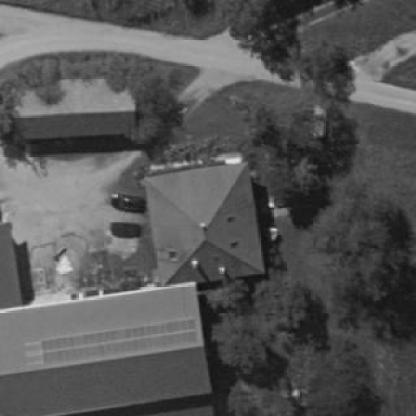solar-pv-panel: (42, 319, 198, 366)
